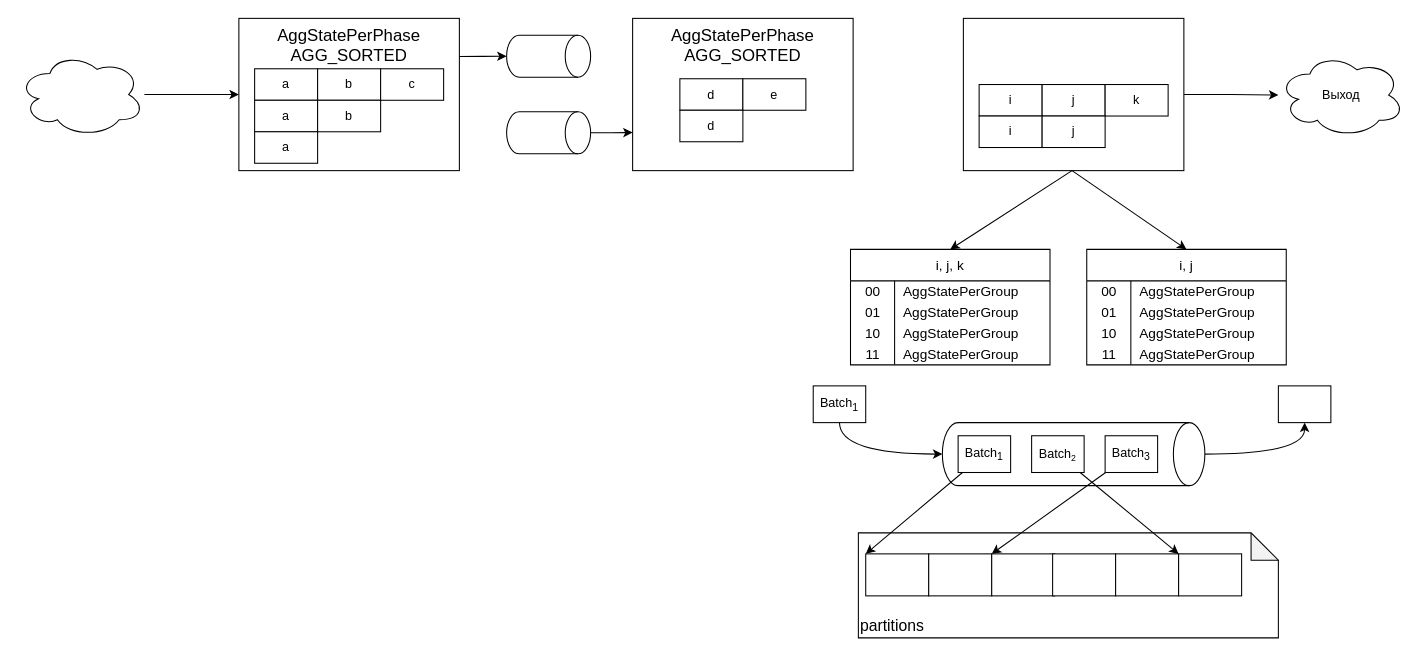
The diagram is 1423 pixels wide and 656 high, and some of its shapes have lost their labels. Each missing label, with the box of its shape:
AggStatePerPhase AGG_MIXED: (962, 17, 1184, 171)
Batch n: (1277, 385, 1331, 423)
sort_in: (506, 111, 591, 154)
sort_out: (506, 34, 591, 77)
Вход: (17, 51, 144, 136)
